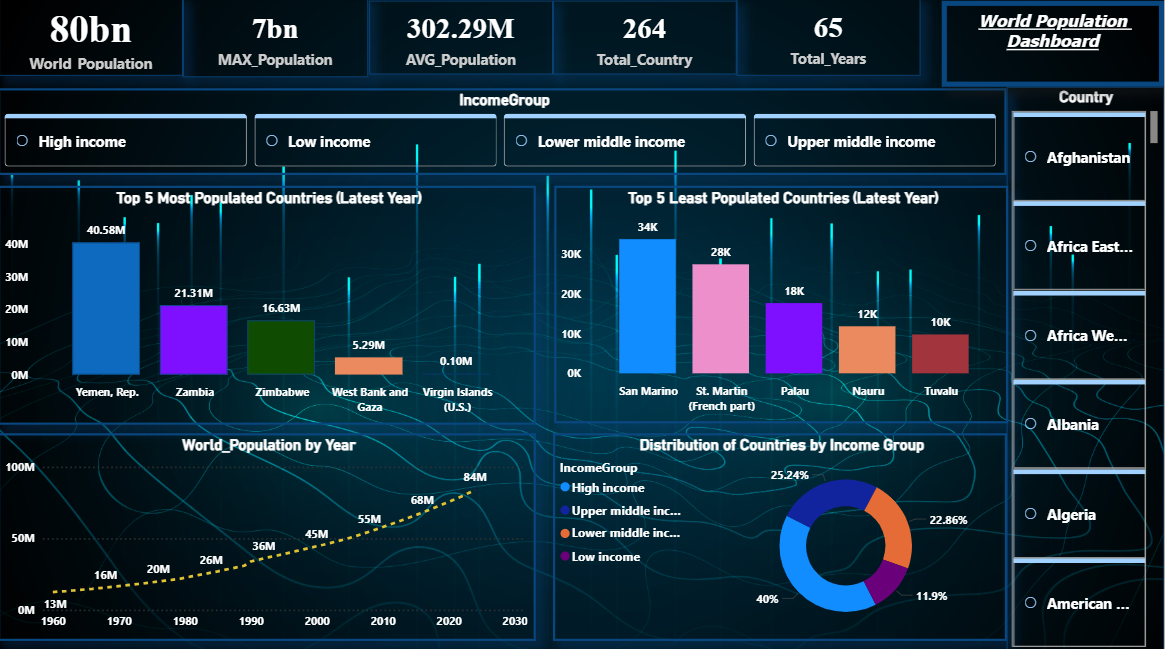

Layout of this report page (visuals, bound fields, positions):
{"tool":"powerbi","page":{"name":"Page 1","canvas":[1280,720],"ordinal":0},"visuals":[{"type":"card","fields":{"Values":["API_SP POP TOTL_DS2_en_csv_v2_207128.Total_Population"]},"box":[1.4,0,201.7,86.4],"z":0},{"type":"card","fields":{"Values":["API_SP POP TOTL_DS2_en_csv_v2_207128.AVG_Population"]},"box":[407.5,4.1,201.7,81],"z":1000},{"type":"card","fields":{"Values":["API_SP POP TOTL_DS2_en_csv_v2_207128.MAX_Population"]},"box":[203.1,0,203.1,87.8],"z":2000},{"type":"card","fields":{"Values":["API_SP POP TOTL_DS2_en_csv_v2_207128.Total_Years"]},"box":[811,0,201.7,86.4],"z":3000},{"type":"lineChart","fields":{"Category":["API_SP POP TOTL_DS2_en_csv_v2_207128.Year"],"Y":["API_SP POP TOTL_DS2_en_csv_v2_207128.World_Population"]},"box":[0,478.9,590.1,227.8],"z":4000},{"type":"columnChart","title":"Top 5 Most Populated Countries (Latest Year)","fields":{"Category":["API_SP POP TOTL_DS2_en_csv_v2_207128.Country"],"Y":["Sum(API_SP POP TOTL_DS2_en_csv_v2_207128.Population)"]},"box":[0,207.2,590.1,262.1],"z":5000},{"type":"donutChart","title":"Distribution of Countries by Income Group","fields":{"Y":["Count(API_SP POP TOTL_DS2_en_csv_v2_207128.Country)"],"Category":["Metadata_Country_API_SP POP TOTL_DS2_en_csv_v2_207128.IncomeGroup"]},"box":[609.3,478.9,498.1,227.8],"z":6000},{"type":"card","fields":{"Values":["API_SP POP TOTL_DS2_en_csv_v2_207128.Total_Country"]},"box":[609.3,4.1,201.7,81],"z":7000},{"type":"columnChart","title":"Top 5 Least Populated Countries (Latest Year)","fields":{"Y":["Sum(API_SP POP TOTL_DS2_en_csv_v2_207128.Population)"],"Category":["API_SP POP TOTL_DS2_en_csv_v2_207128.Country"]},"box":[610.6,207.2,498.1,260.7],"z":8000},{"type":"advancedSlicerVisual","fields":{"Values":["Metadata_Country_API_SP POP TOTL_DS2_en_csv_v2_207128.IncomeGroup"]},"box":[0,100,1107.5,95],"z":9000},{"type":"advancedSlicerVisual","fields":{"Values":["API_SP POP TOTL_DS2_en_csv_v2_207128.Country"]},"box":[1107.4,98.8,172.9,621.6],"z":10000},{"type":"textbox","box":[1035.7,4.3,244.3,94.3],"z":11000}]}

Visuals, with their boxes in screenshot pixels (x1, y1, x2, y2), scaled from the page's 1280x720 canvas onto the 1165x649 screenshot:
card - API_SP POP TOTL_DS2_en_csv_v2_207128.Total_Population: 1:0:185:78
card - API_SP POP TOTL_DS2_en_csv_v2_207128.AVG_Population: 371:4:554:77
card - API_SP POP TOTL_DS2_en_csv_v2_207128.MAX_Population: 185:0:370:79
card - API_SP POP TOTL_DS2_en_csv_v2_207128.Total_Years: 738:0:922:78
lineChart - API_SP POP TOTL_DS2_en_csv_v2_207128.Year x API_SP POP TOTL_DS2_en_csv_v2_207128.World_Population: 0:432:537:637
"Top 5 Most Populated Countries (Latest Year)" columnChart: 0:187:537:423
"Distribution of Countries by Income Group" donutChart: 555:432:1008:637
card - API_SP POP TOTL_DS2_en_csv_v2_207128.Total_Country: 555:4:738:77
"Top 5 Least Populated Countries (Latest Year)" columnChart: 556:187:1009:422
advancedSlicerVisual - Metadata_Country_API_SP POP TOTL_DS2_en_csv_v2_207128.IncomeGroup: 0:90:1008:176
advancedSlicerVisual - API_SP POP TOTL_DS2_en_csv_v2_207128.Country: 1008:89:1164:648
textbox: 943:4:1164:89
